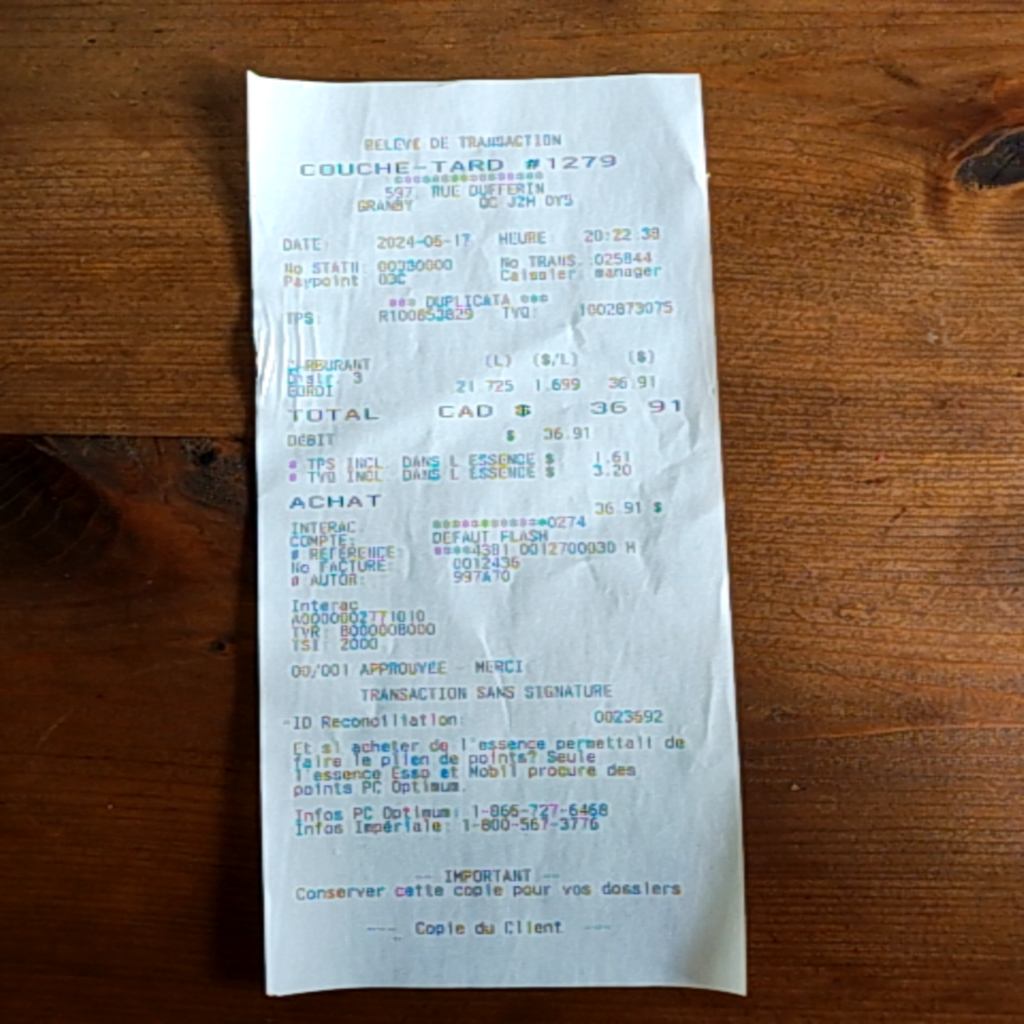recipt: (246, 70, 747, 1003)
